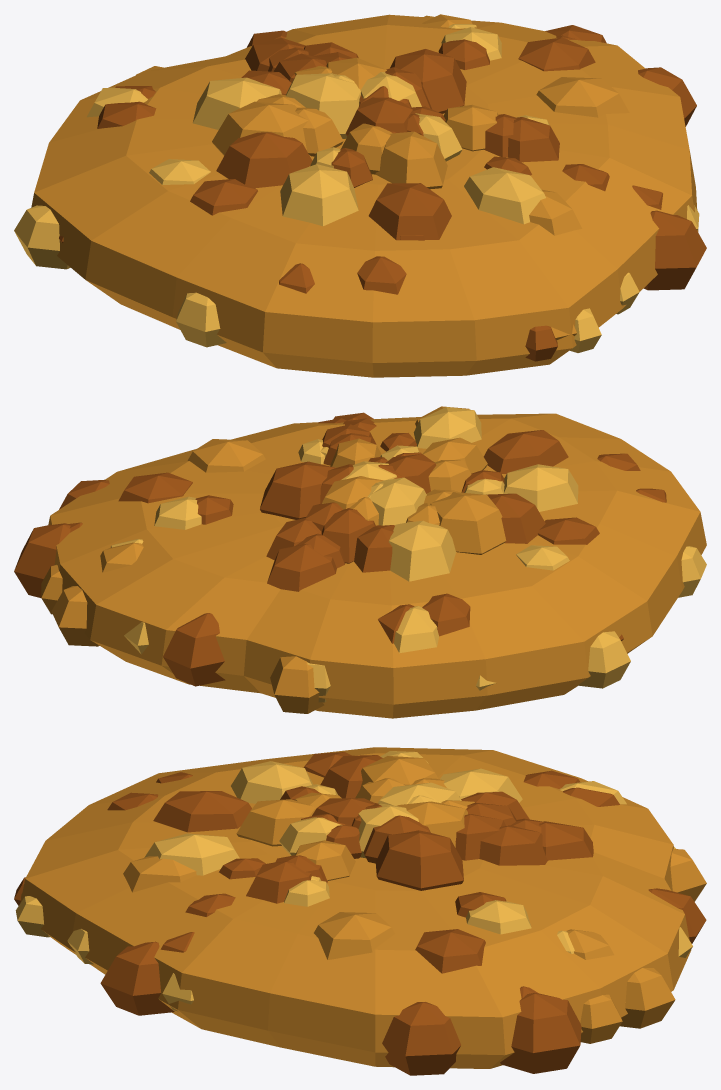
Rendered from chicken_cooked.glb.
3 renders of one model, top to bottom at view 1: azimuth 30°, elevation 25°; view 2: azimuth 150°, elevation 25°; view 3: azimuth 270°, elevation 25°, orthographic. The views are drawn at different scales.
Visible parts, largest first — view 1: ChickenCooked; view 2: ChickenCooked; view 3: ChickenCooked.
Part boxes in pixels (x1,y1,x2,y2): ChickenCooked: (14,14,706,377); ChickenCooked: (14,406,706,718); ChickenCooked: (14,747,706,1075).
Bounding box in the file's own units: 3 × 0.7 × 3.
